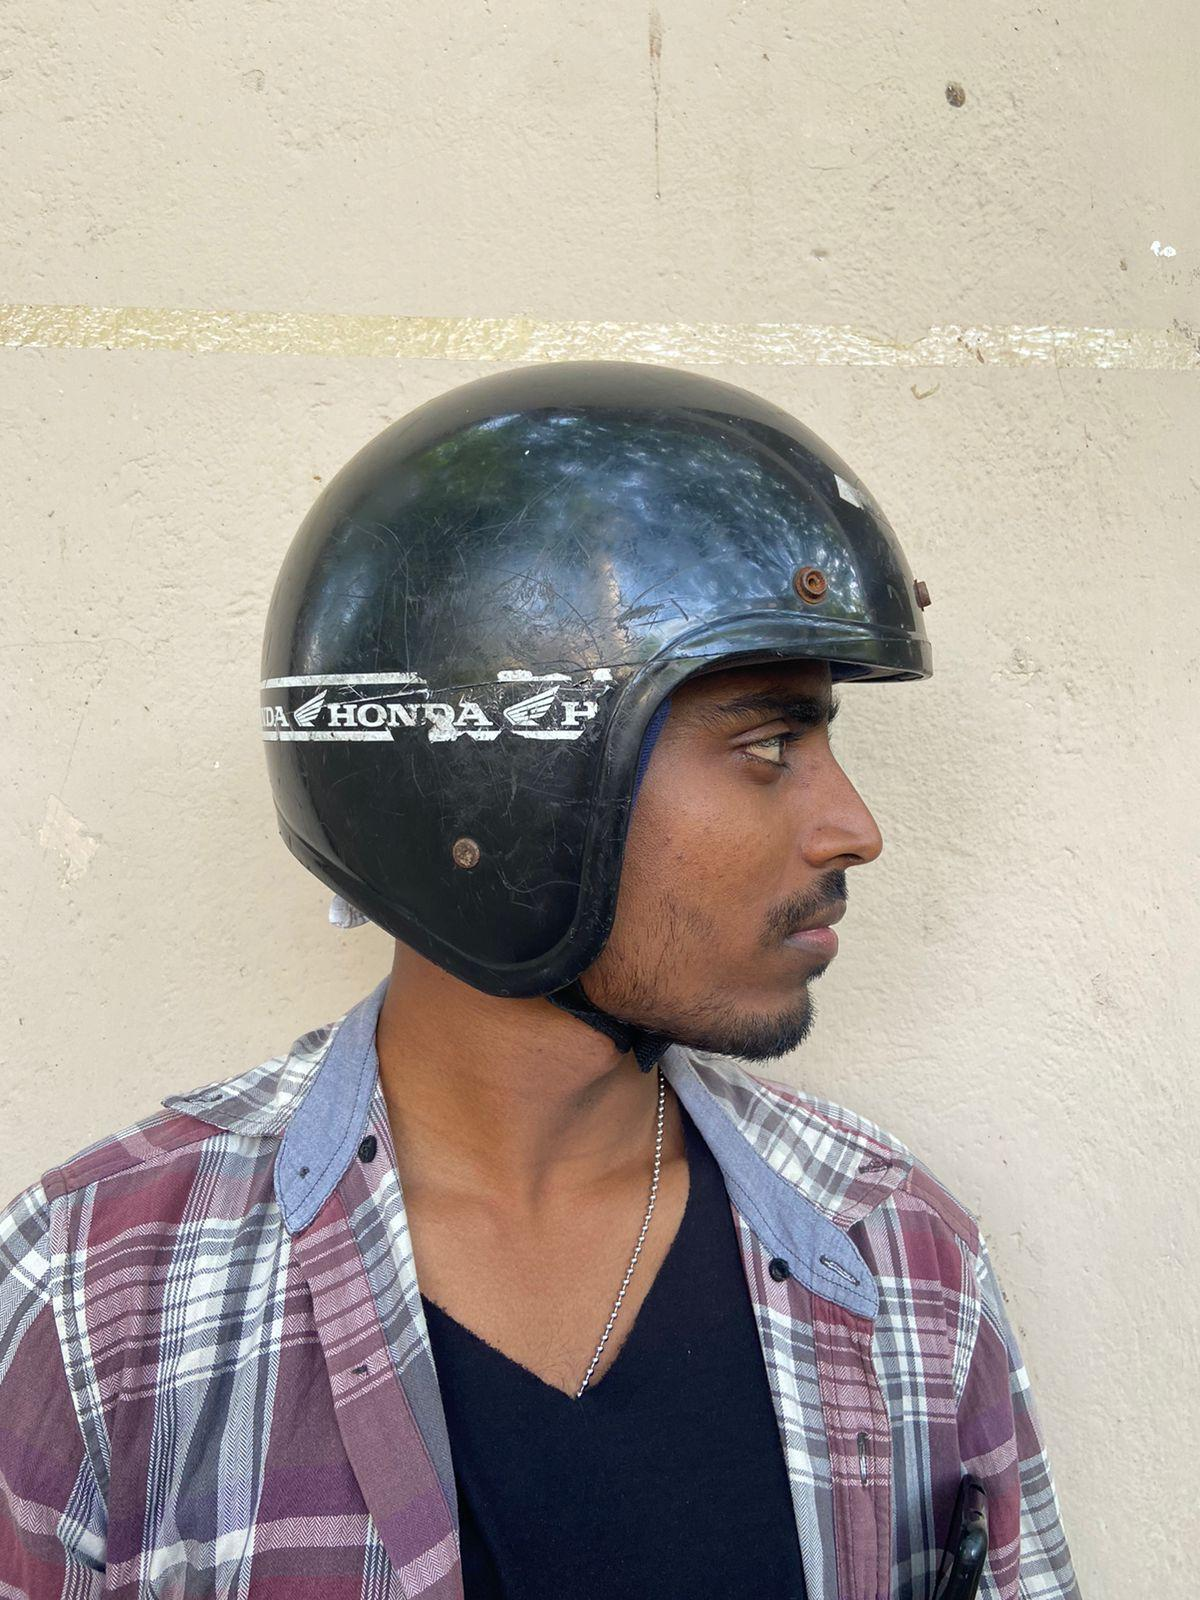helmet: (253, 354, 929, 1002)
